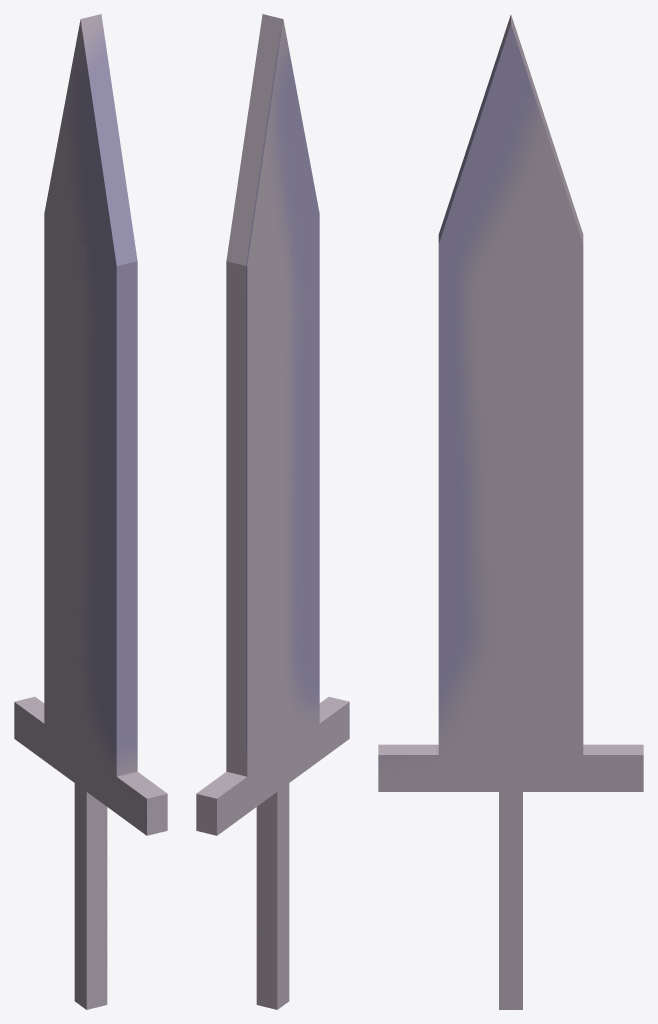
The model's file is player_Weapon.obj.
3 views of the same model, side by side, from view 1: azimuth 30°, elevation 25°; view 2: azimuth 150°, elevation 25°; view 3: azimuth 270°, elevation 25° (orthographic).
Parts seen in each view (by area): view 1: 立方体; view 2: 立方体; view 3: 立方体.
Part boxes in pixels (x1,y1,x2,y2): 立方体: [14, 14, 167, 1009]; 立方体: [196, 14, 349, 1009]; 立方体: [378, 15, 643, 1009].
Bounding box in the file's own units: 0.0873 × 3.94 × 0.9613.
Materials: 1 (1 with a texture image).
